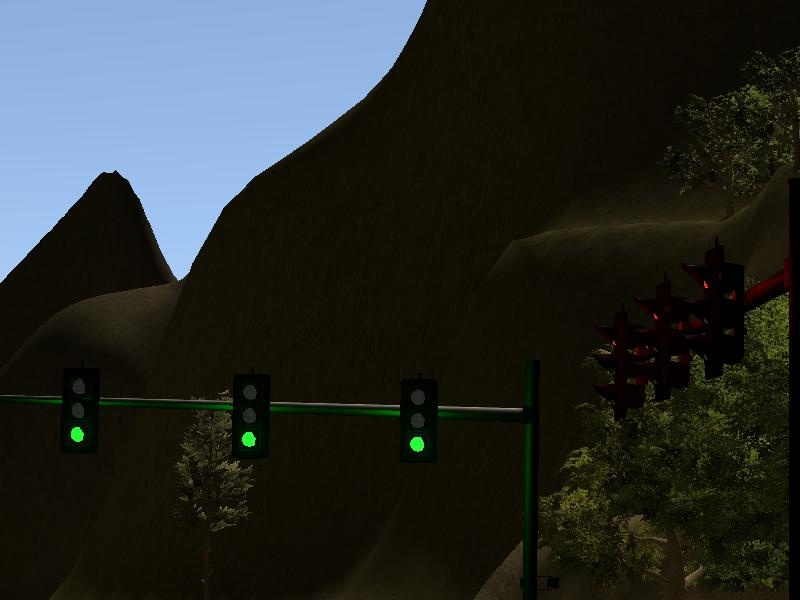Green: (60, 367, 101, 457), (398, 376, 439, 464), (230, 371, 271, 458)
